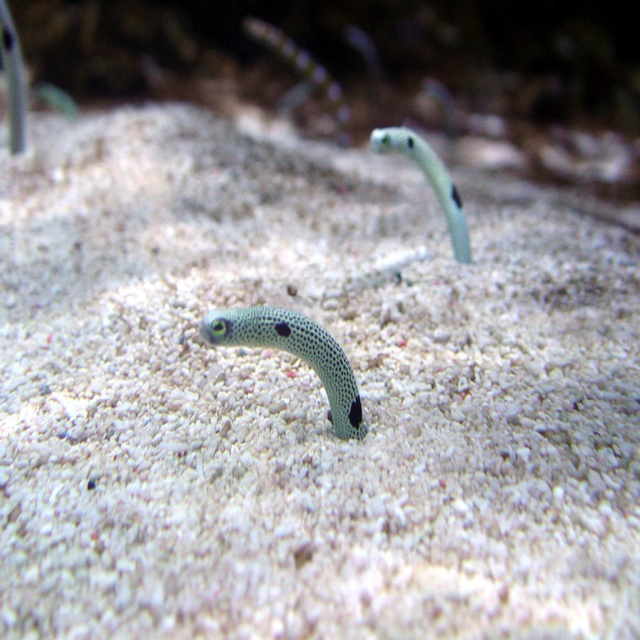Snake: (170, 301, 364, 442), (370, 128, 471, 260)
